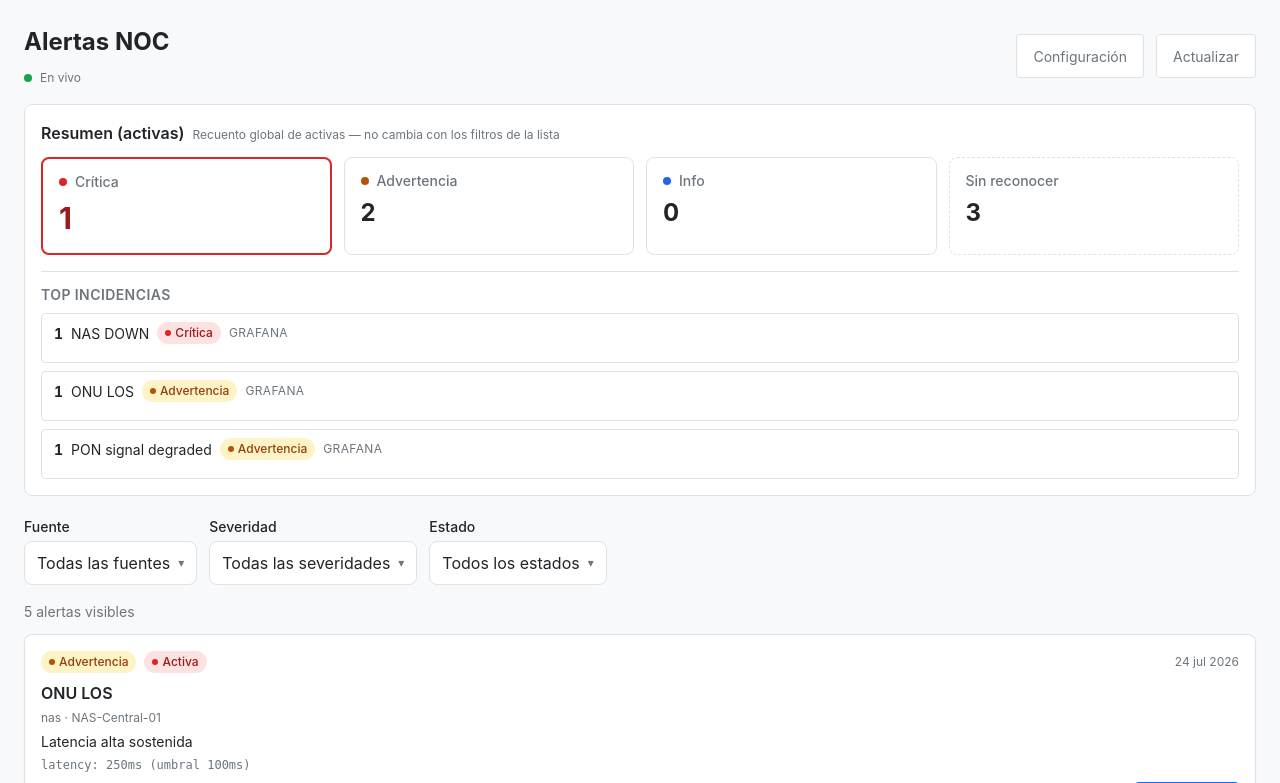
Test: MEDIO-1 (3ª review adversarial): the reducer models summary ENGAGEMENT, not "field is non-empty" › door 3: hand-picked severity + engage a type row + the "quitar filtro de tipo" chip → same restore
Click the dropdown labelled "Todas las severidades ▾". click: (313, 563)
box: [209,541,417,585]
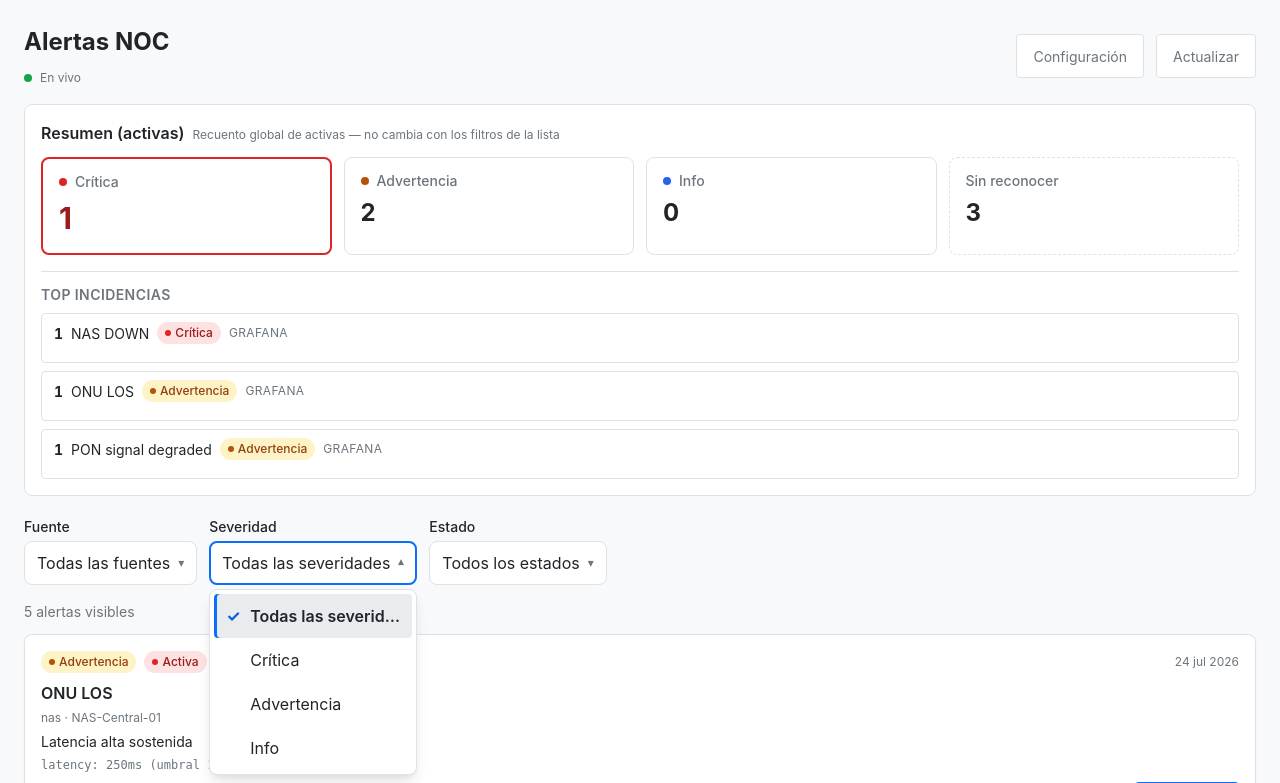
Click the option "Advertencia". click: (296, 704)
box: [250,694,341,714]
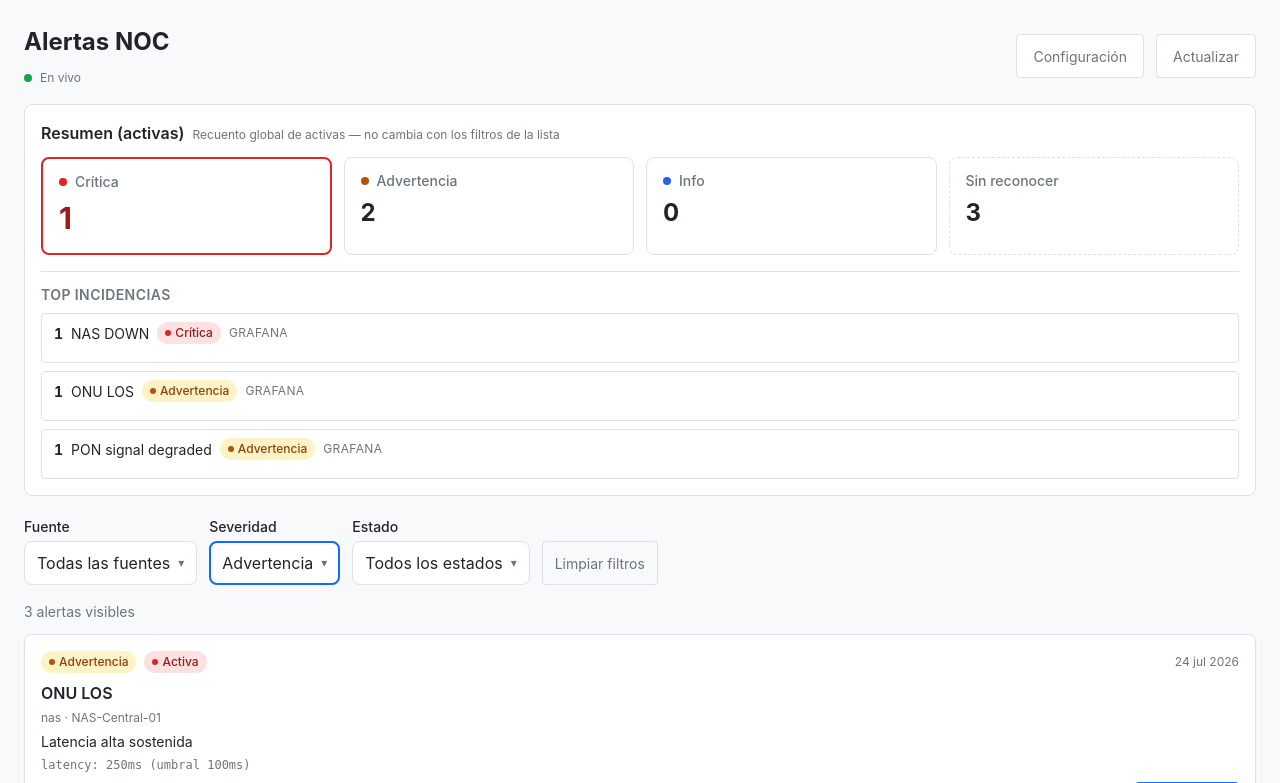
Click the button "1 ONU LOS Advertencia grafana". click: (102, 391)
box: [41,371,1239,421]
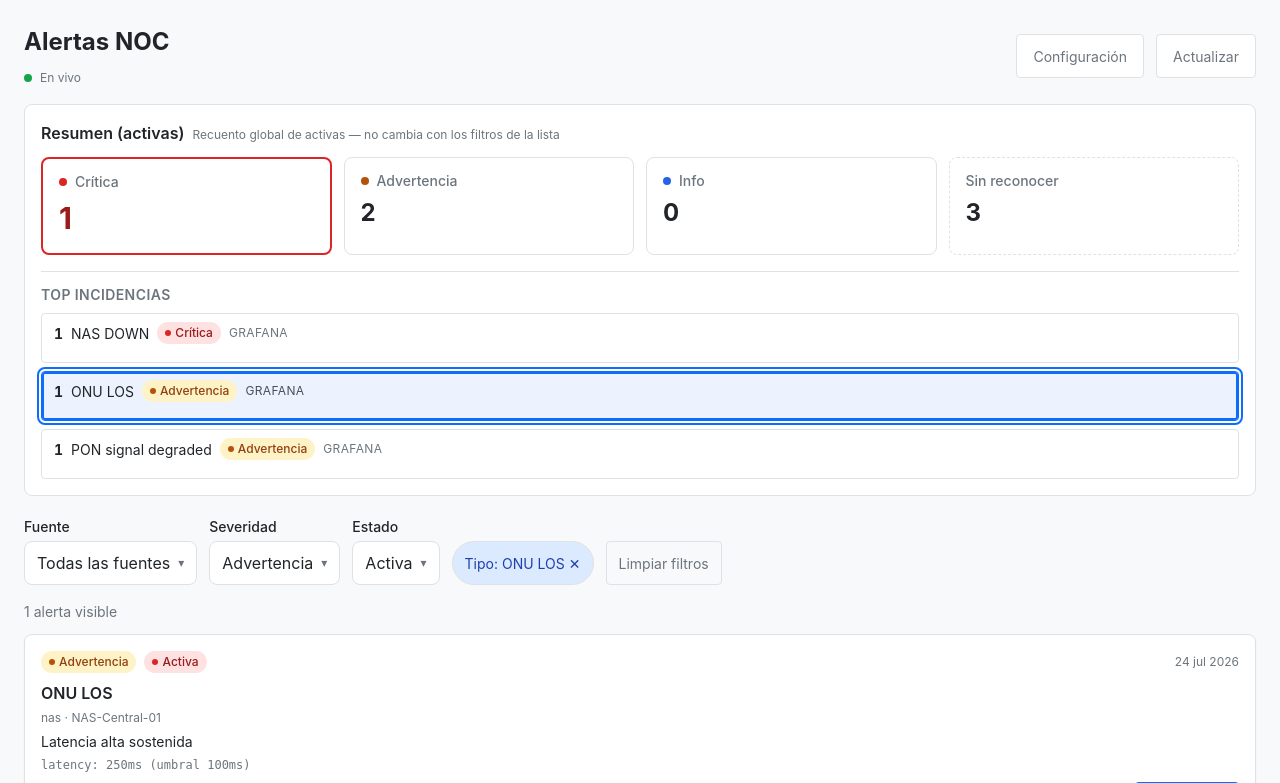
Expected: the dropdown named "estado" shows "Activa", [352,541,440,585]
Click the button with aria-label "quitar filtro de tipo". click: (523, 563)
box: [452,541,594,585]
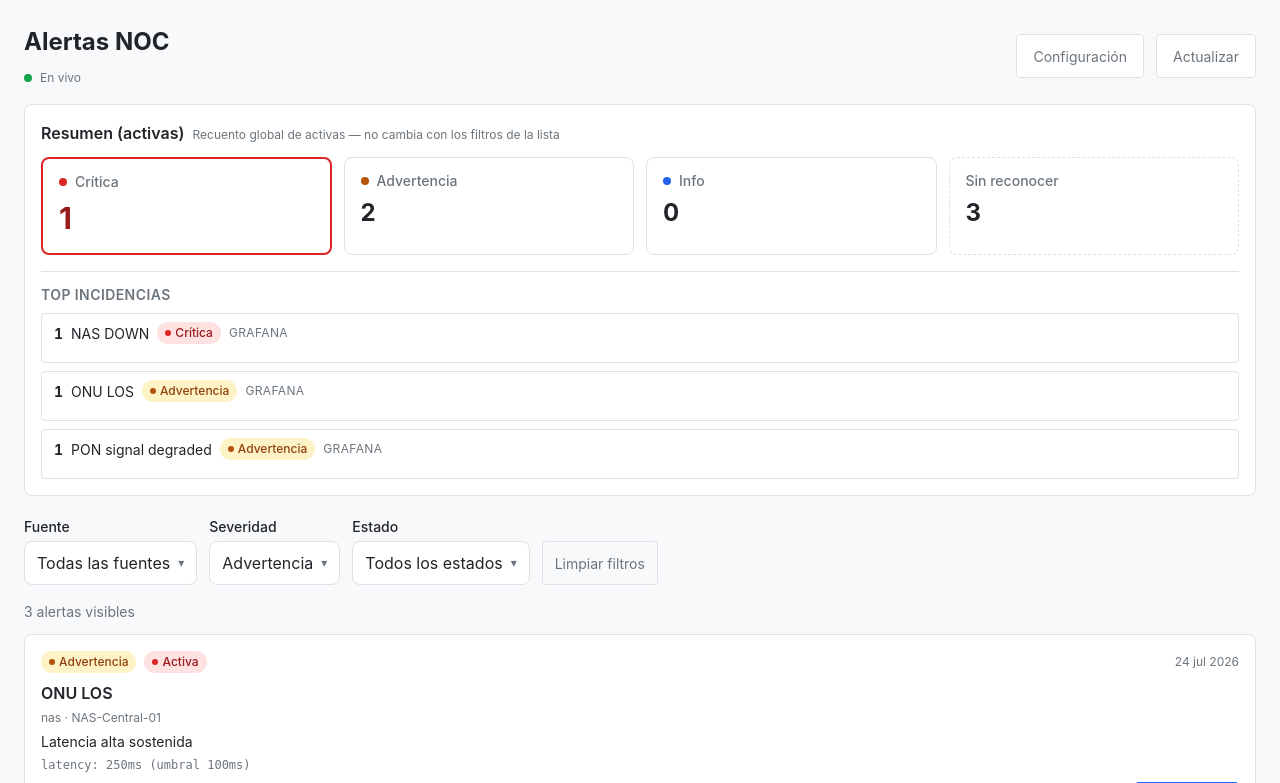
Expected: the dropdown labelled "Todos los estados ▾" is shown, [352,541,530,585]
